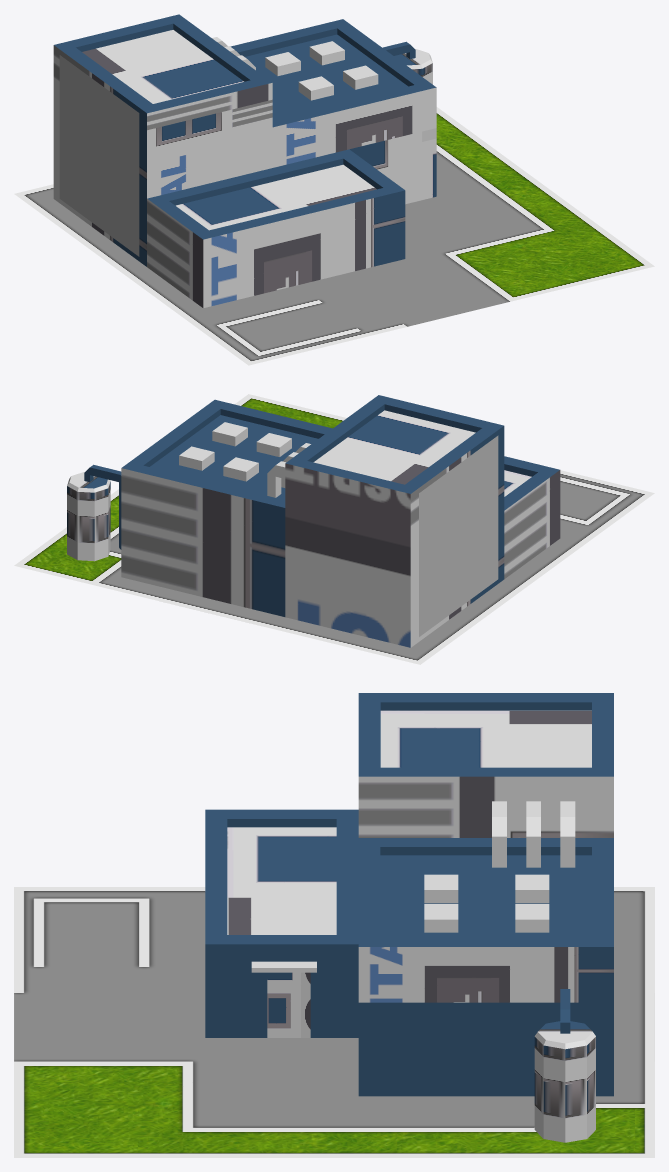
Rendered from Smelter_Plant_lvl_1.fbx.
3 views of the same model, one above another, from view 1: azimuth 30°, elevation 25°; view 2: azimuth 150°, elevation 25°; view 3: azimuth 270°, elevation 25° (orthographic). The views are drawn at different scales.
Visible parts, largest first — view 1: Smelter_Plant_Lvl_1, Smelter_Plant_BG, Graffiti_001; view 2: Smelter_Plant_Lvl_1, Smelter_Plant_BG, Graffiti_001; view 3: Smelter_Plant_Lvl_1, Smelter_Plant_BG.
Part boxes in pixels (left/top/right/bottom): Smelter_Plant_Lvl_1: left=53, top=14, right=436, bottom=308; Smelter_Plant_BG: left=14, top=107, right=654, bottom=365; Graffiti_001: left=59, top=55, right=139, bottom=256; Smelter_Plant_Lvl_1: left=67, top=395, right=560, bottom=647; Smelter_Plant_BG: left=14, top=394, right=654, bottom=664; Graffiti_001: left=419, top=435, right=498, bottom=636; Smelter_Plant_Lvl_1: left=205, top=693, right=613, bottom=1142; Smelter_Plant_BG: left=14, top=887, right=654, bottom=1157.
Size of the model in its own units: 2000 by 724 by 2000.
